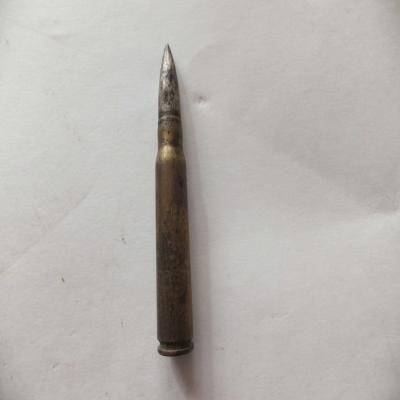weapon: (155, 44, 194, 358)
